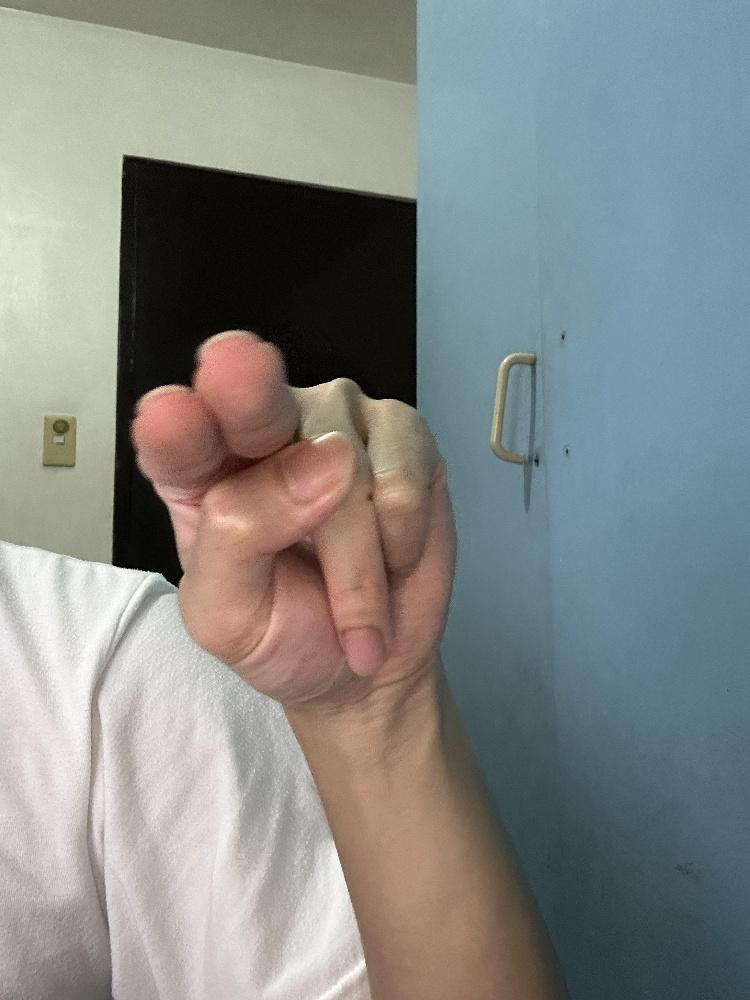n: (127, 323, 462, 708)
